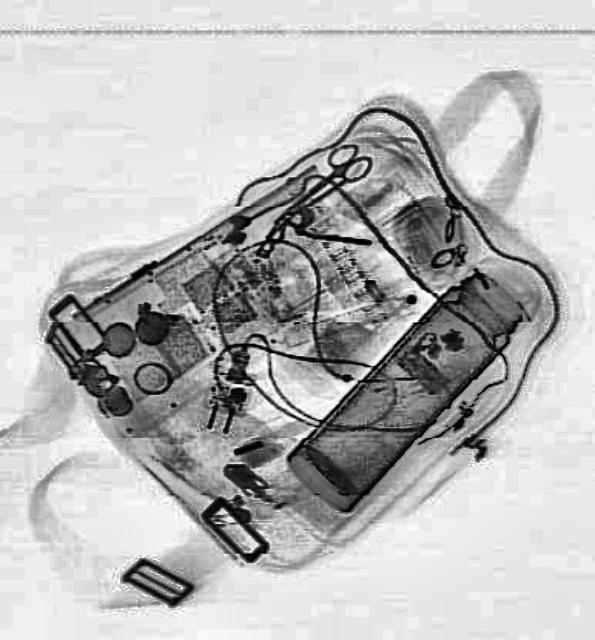Scissors: (272, 134, 376, 228)
